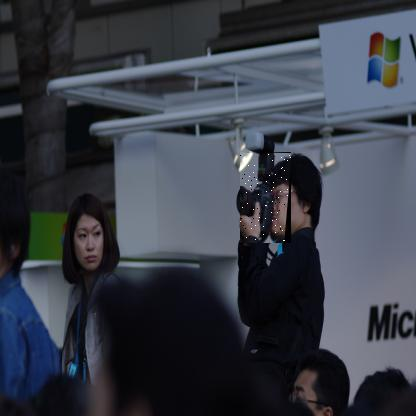Camera: (241, 153, 293, 245)
